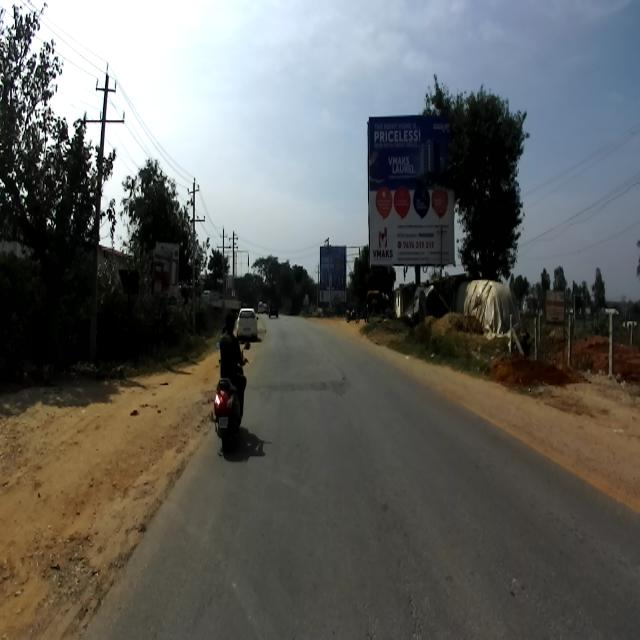electric pole ahead at: (77, 56, 129, 350)
motorcycle ahead at: (214, 373, 246, 448)
